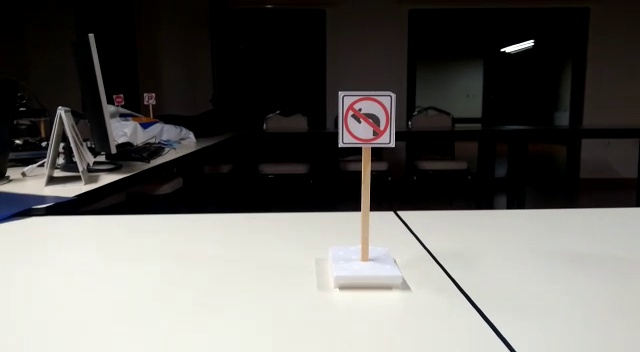sola_donulmez: (337, 92, 395, 153)
